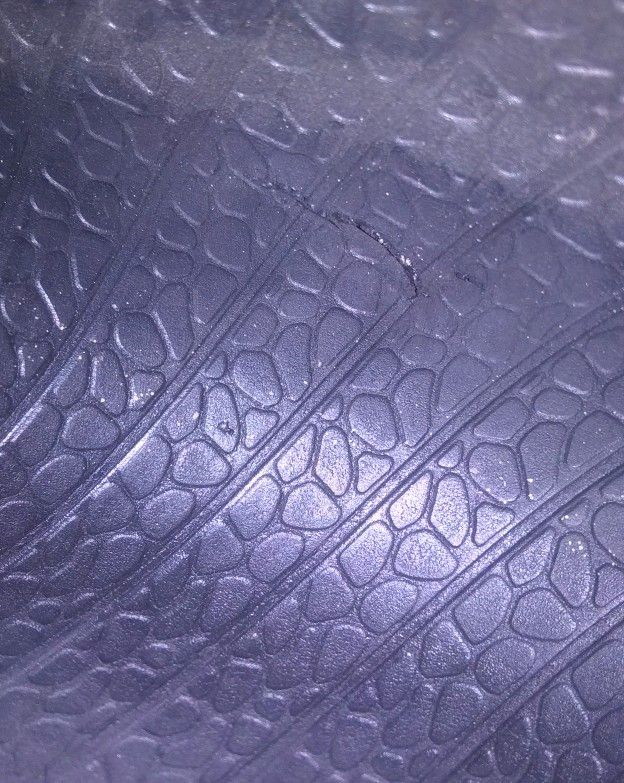CBU: (244, 165, 431, 311)
